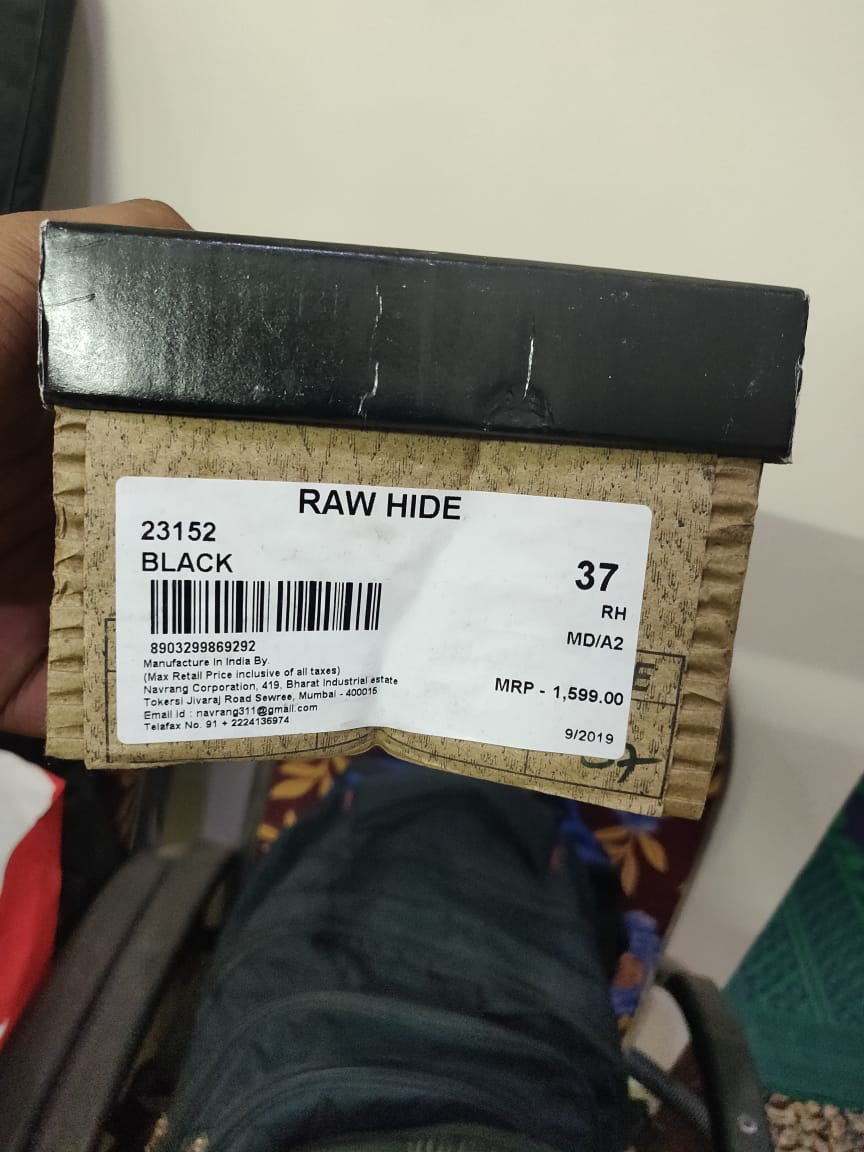barcode: (120, 554, 395, 649)
